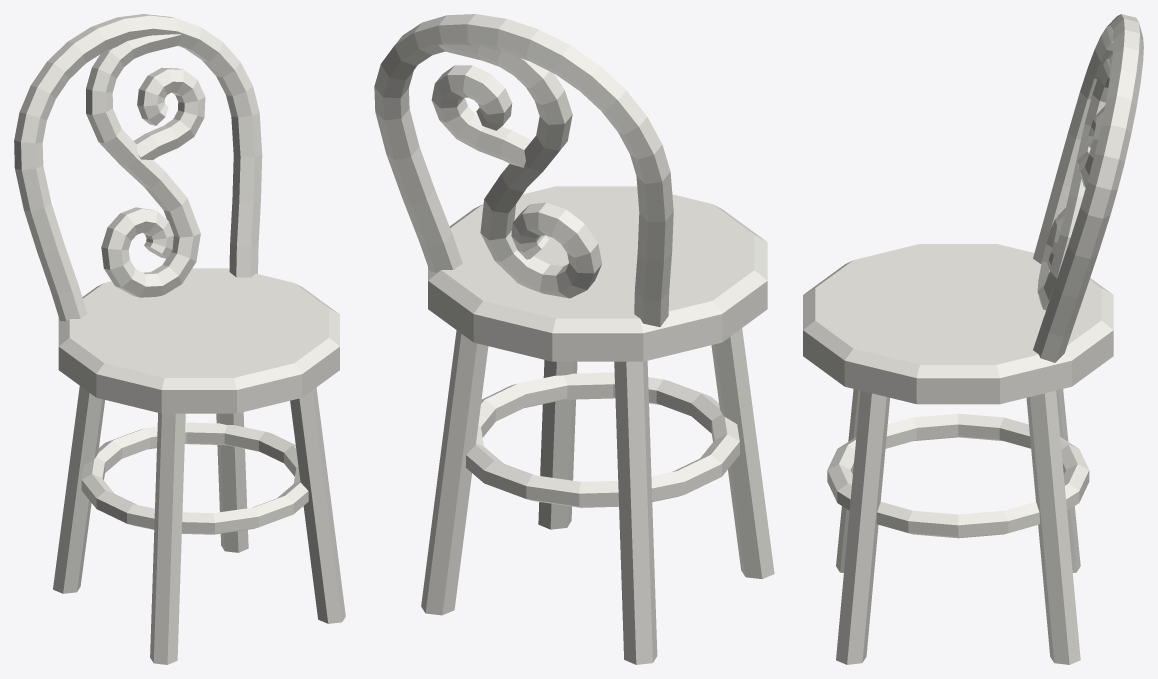
File: FMS_Garden_Bistro_Chair_White.fbx
3 views of the same model, side by side, from view 1: azimuth 30°, elevation 25°; view 2: azimuth 150°, elevation 25°; view 3: azimuth 270°, elevation 25° (orthographic). The views are drawn at different scales.
Parts seen in each view (by area): view 1: FMS_Garden_Bistro_Chair_White_Body; view 2: FMS_Garden_Bistro_Chair_White_Body; view 3: FMS_Garden_Bistro_Chair_White_Body.
Part boxes in pixels (left/top/right/bottom): FMS_Garden_Bistro_Chair_White_Body: left=14, top=14, right=345, bottom=664; FMS_Garden_Bistro_Chair_White_Body: left=374, top=14, right=774, bottom=664; FMS_Garden_Bistro_Chair_White_Body: left=803, top=14, right=1143, bottom=664.
Size of the model in its own units: 0.41 by 0.85 by 0.45.
Materials: 1 (1 with a texture image).
